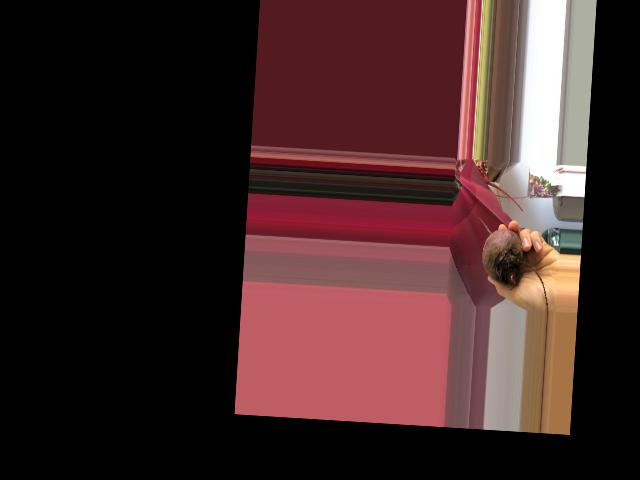beet: (471, 216, 554, 311)
